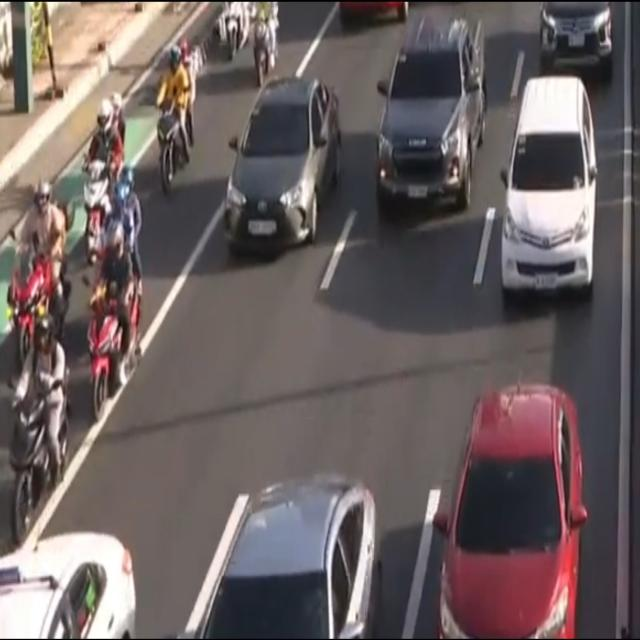Motorcycle: (7, 322, 71, 534), (8, 184, 68, 382), (77, 78, 135, 266), (87, 216, 140, 421), (154, 32, 203, 192), (249, 0, 282, 87)
SUV: (499, 74, 598, 289), (376, 15, 482, 209)
Sedan: (432, 386, 585, 640), (190, 472, 380, 640), (227, 82, 341, 250), (0, 536, 136, 640)
